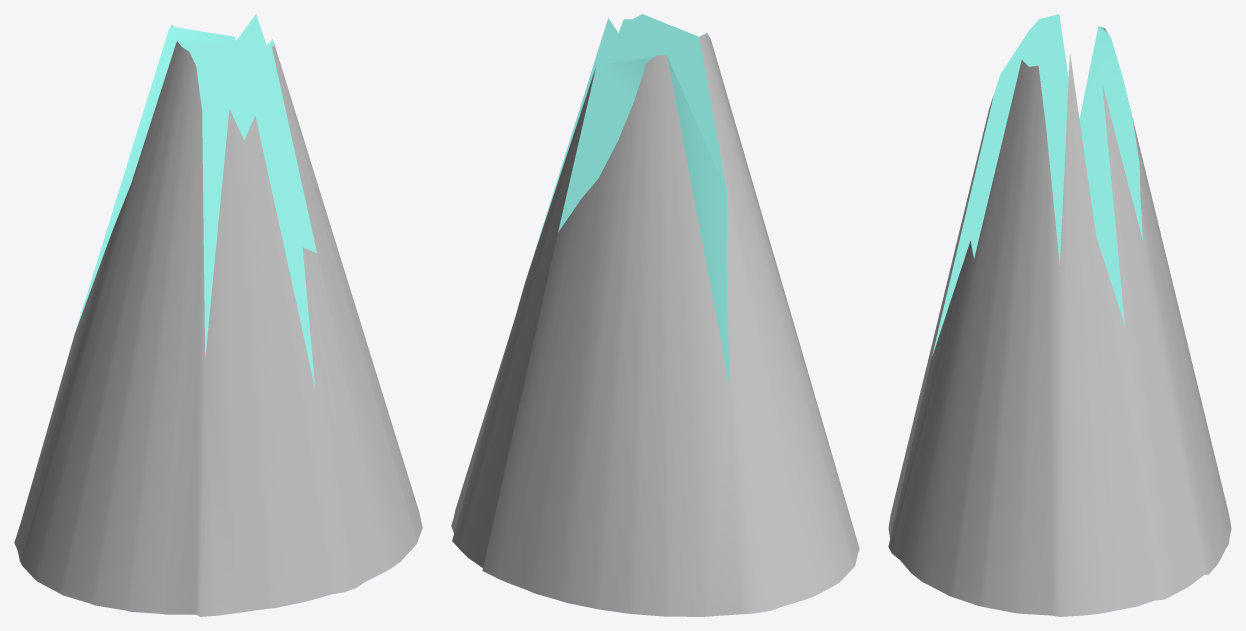
Rendered from smallmound.fbx.
The picture shows the model from 3 angles, left to right: view 1: azimuth 30°, elevation 25°; view 2: azimuth 150°, elevation 25°; view 3: azimuth 270°, elevation 25°; orthographic projection. The views are drawn at different scales.
Parts seen in each view (by area): view 1: Circle.001; view 2: Circle.001; view 3: Circle.001.
Part boxes in pixels (box(x1,y1,x2,y2)): Circle.001: box(14, 14, 422, 616); Circle.001: box(451, 14, 859, 616); Circle.001: box(888, 14, 1231, 616).
Size of the model in its own units: 293 by 389 by 243.
